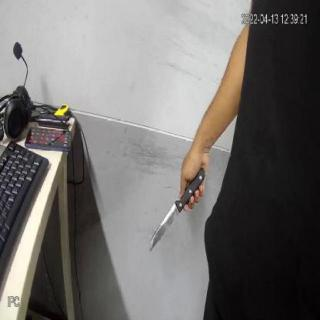knife: (149, 192, 190, 248)
